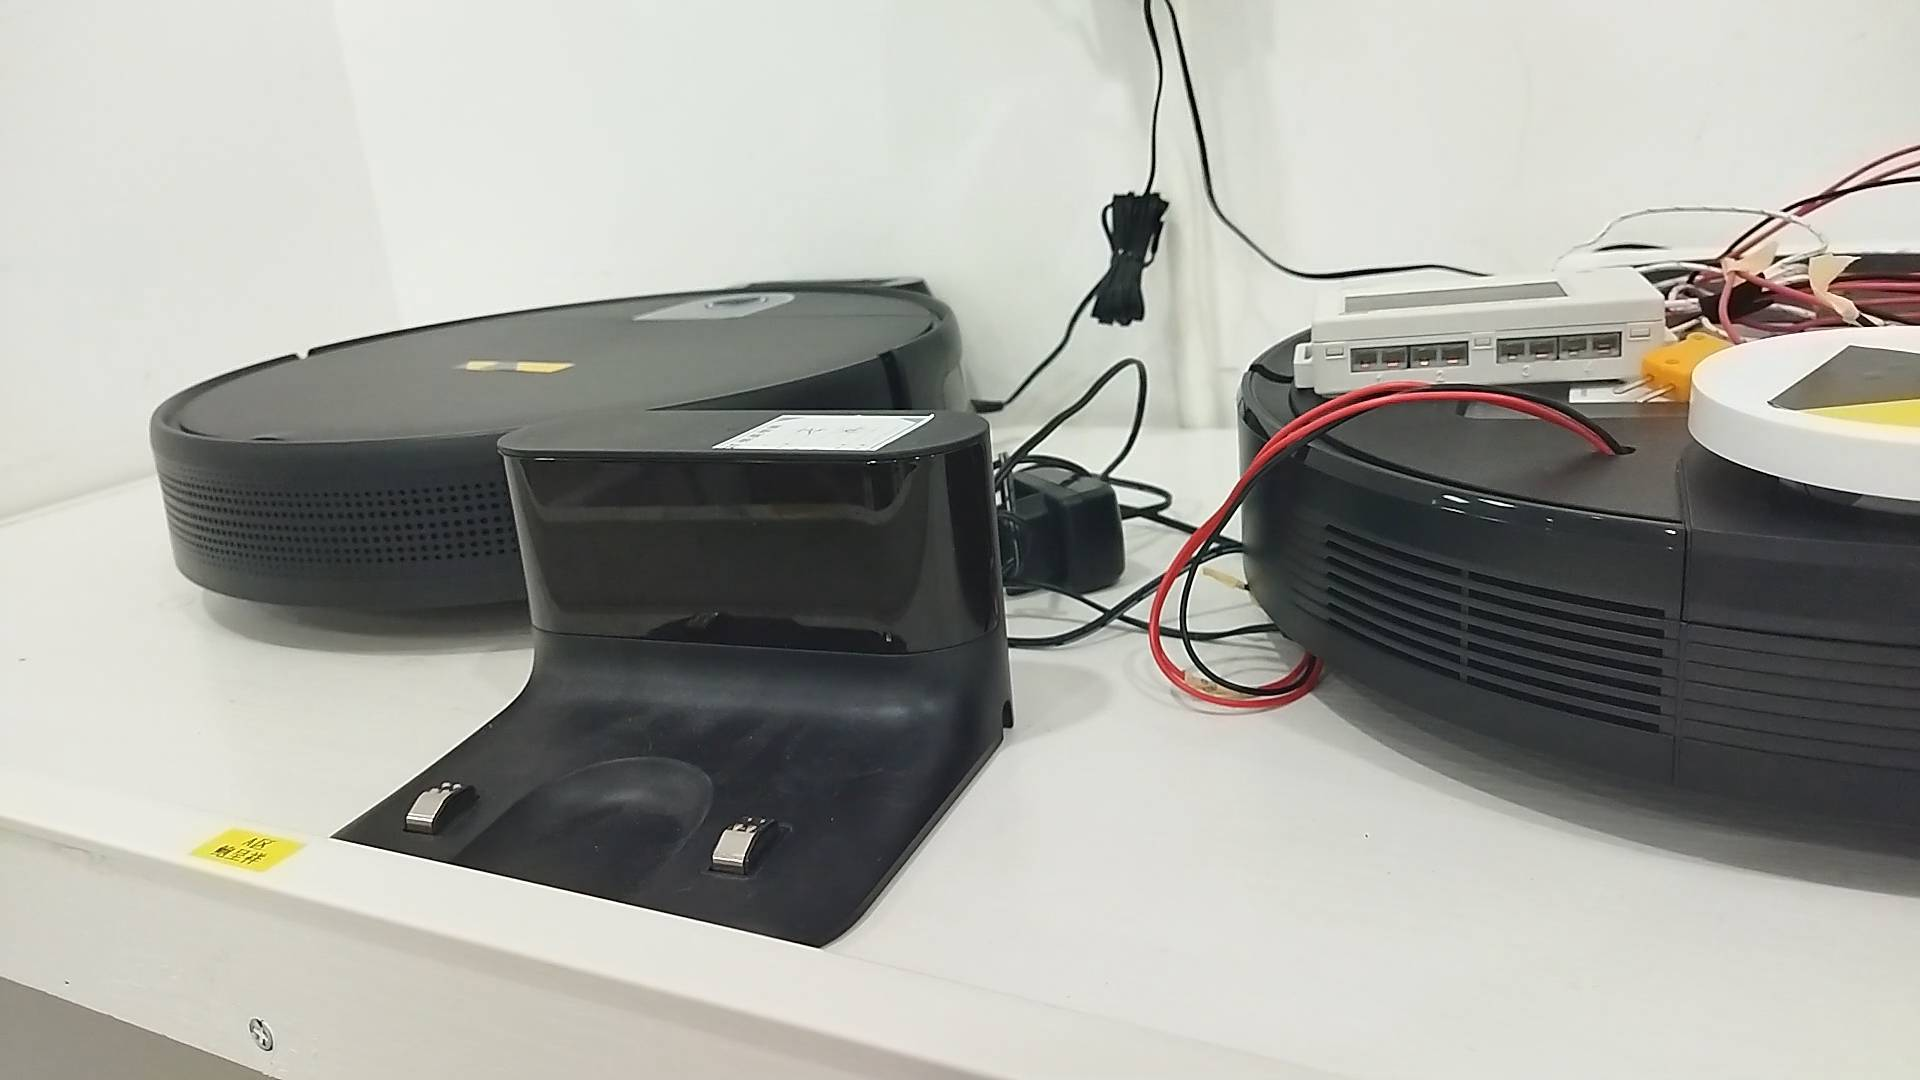recharge seat: (331, 407, 1018, 957)
